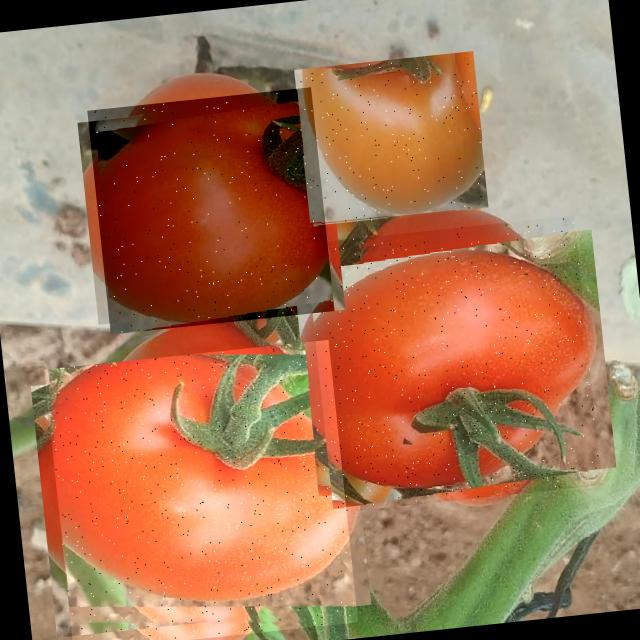Ripe Tomato: (43, 339, 357, 640), (305, 215, 602, 513), (87, 87, 334, 334), (293, 50, 489, 226)
